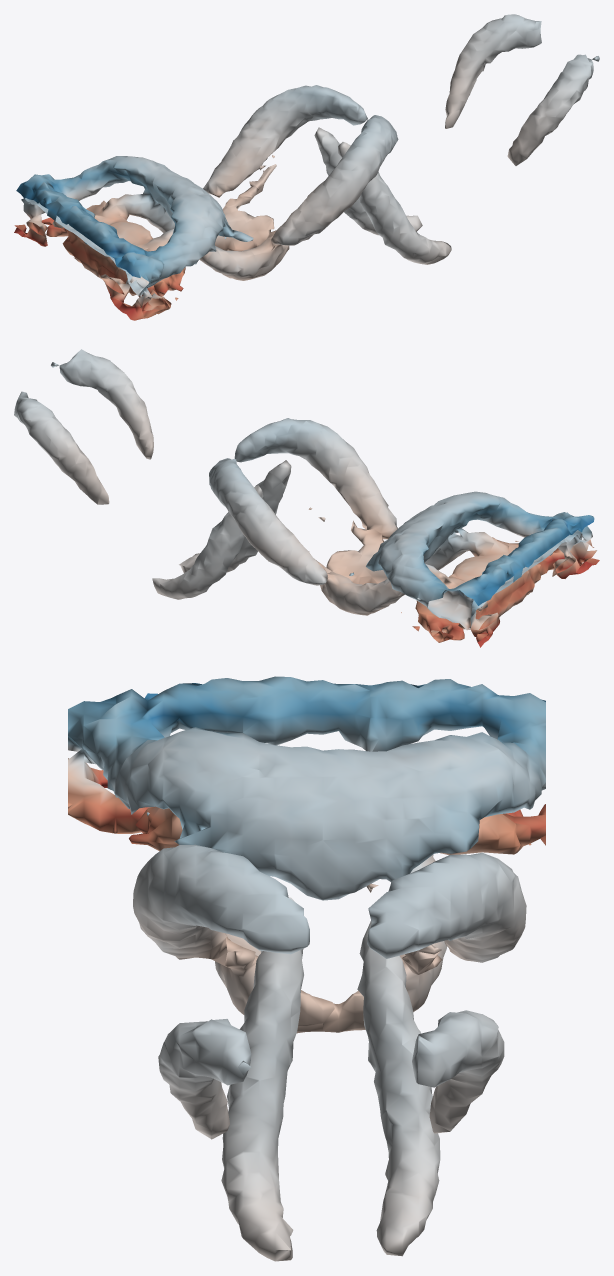
The picture shows the model from 3 angles, top to bottom: view 1: azimuth 30°, elevation 25°; view 2: azimuth 150°, elevation 25°; view 3: azimuth 270°, elevation 25°; orthographic projection. The views are drawn at different scales.
Bounding box in the file's own units: 6.11 × 2.14 × 2.5.
